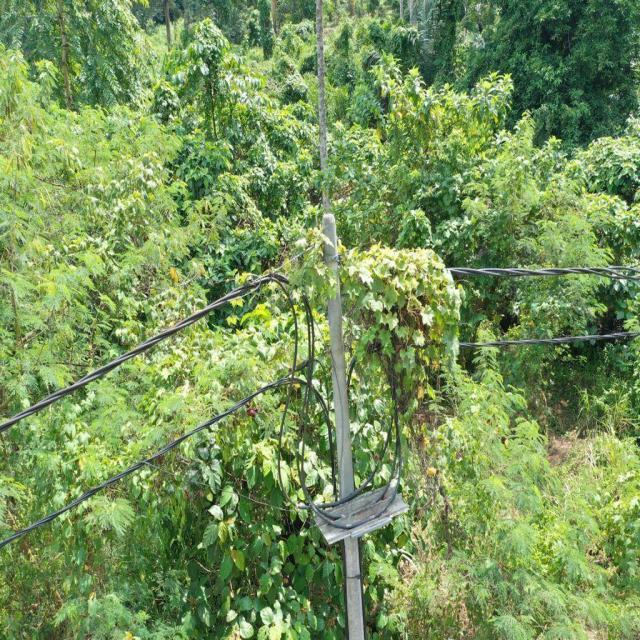critical vegetation: (306, 229, 472, 450)
